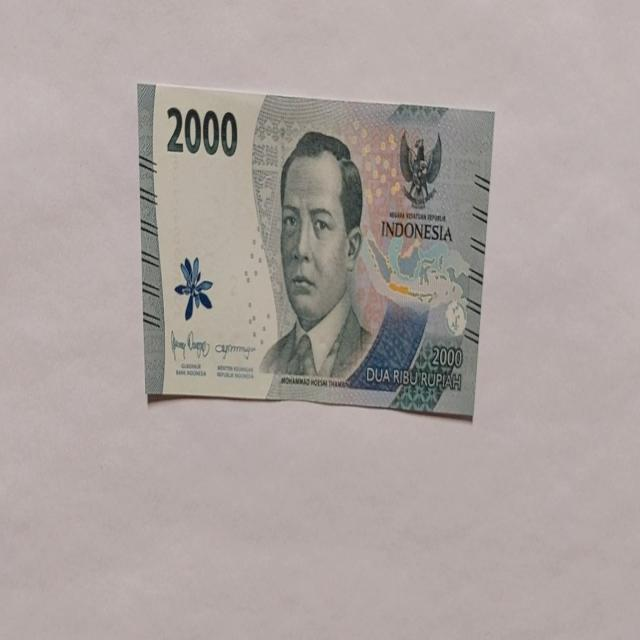dua ribu rupiah: (137, 82, 495, 417), (258, 129, 376, 383)
